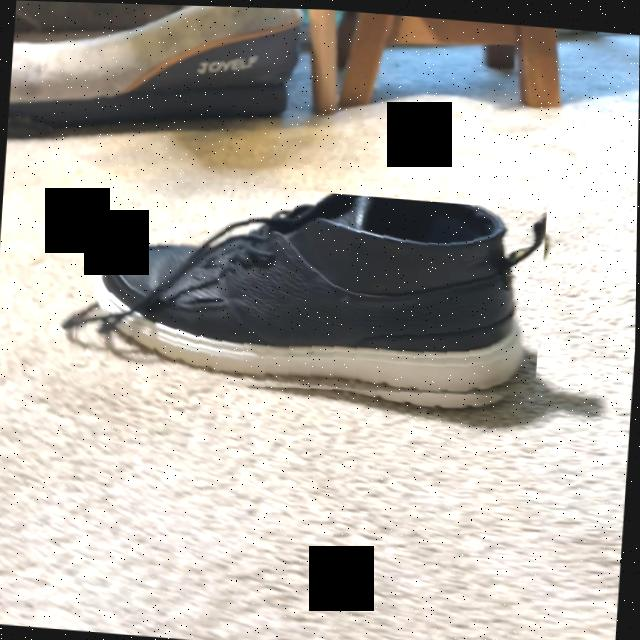shoe: (76, 192, 547, 395)
